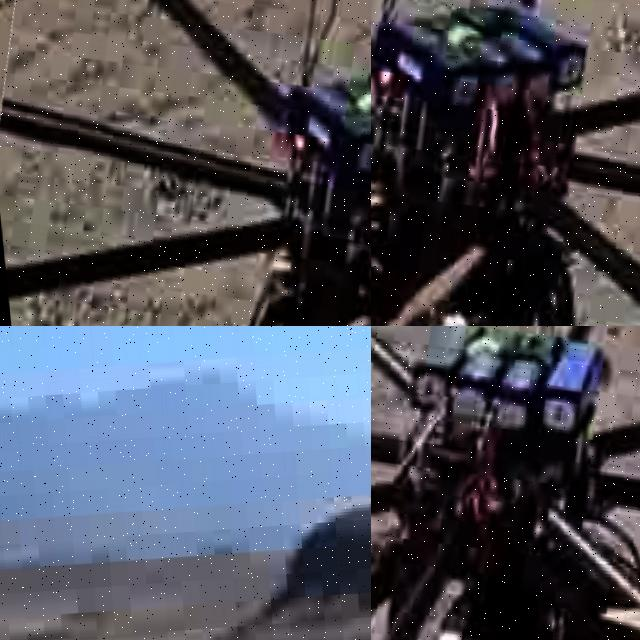drone: (0, 0, 371, 326), (371, 0, 640, 326), (371, 326, 640, 640)
